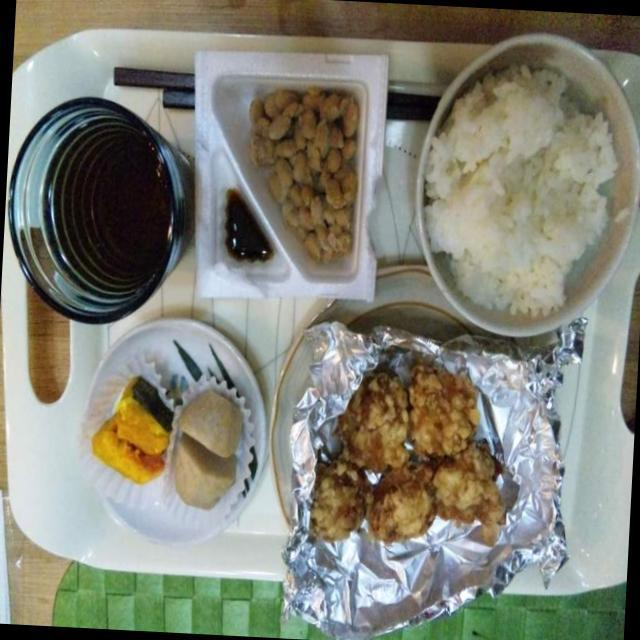Rice: (408, 15, 640, 352)
